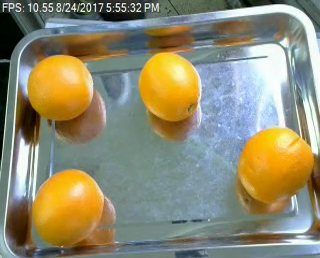Orange: (238, 126, 313, 203), (32, 168, 103, 246), (26, 53, 93, 120), (139, 51, 201, 120)
